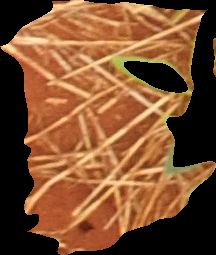soil: (1, 1, 216, 253)
